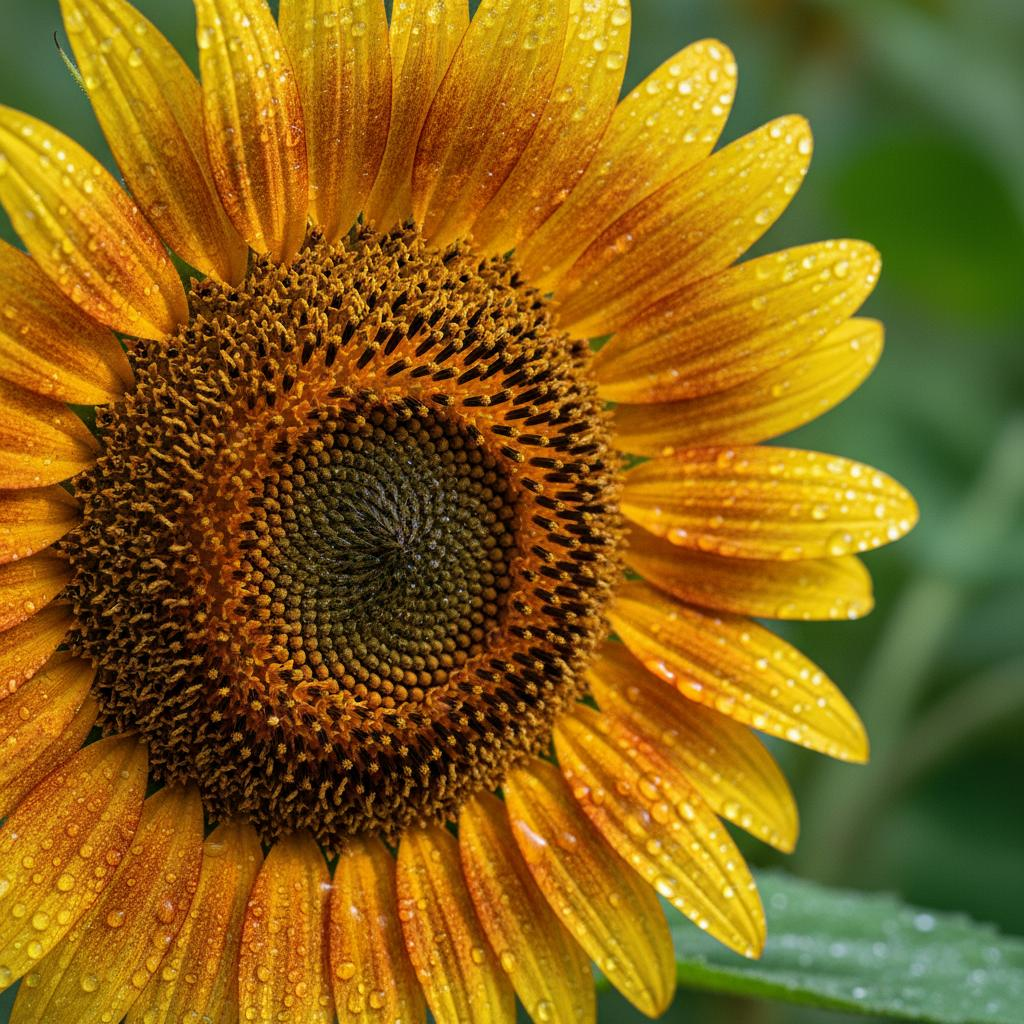sunflower: (0, 0, 918, 1022)
